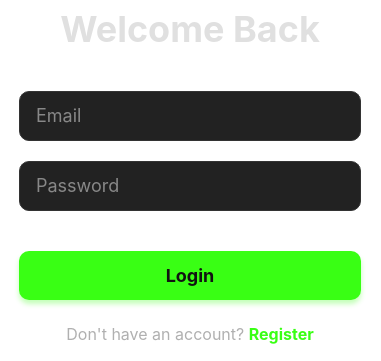
Test case: LoginScreen › shows loading indicator during login
Type "test@example.com" into the field with placeholder "Email" at (190, 116), box left=19, top=90, right=361, bottom=140
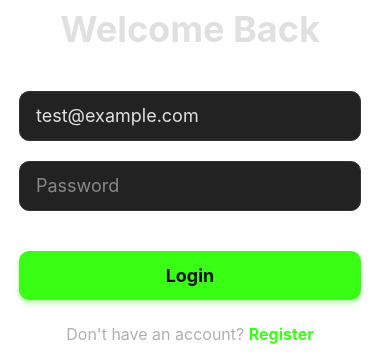
Type "password123" into the password field with placeholder "Password" at (190, 186), box left=19, top=160, right=361, bottom=210
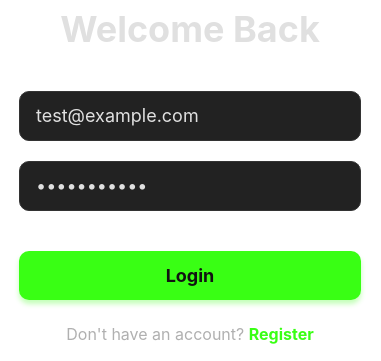
Click the text "Login" at (190, 275), box left=166, top=264, right=214, bottom=286
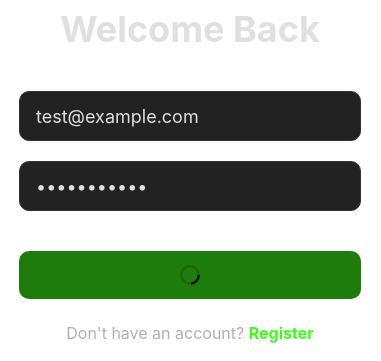
Expected: the progress indicator with test id "login-loading" is shown, left=180, top=265, right=200, bottom=285
Expected: the text "Login" is gone
